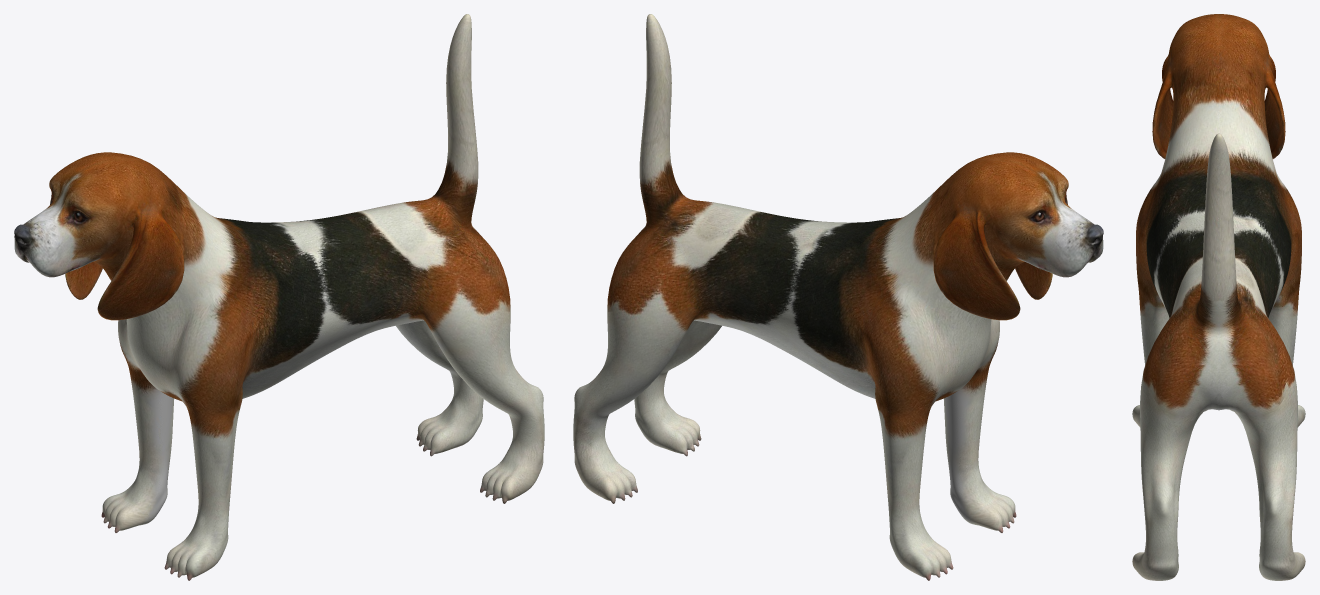
File: Perro.obj
3 views of the same model, side by side, from view 1: azimuth 30°, elevation 25°; view 2: azimuth 150°, elevation 25°; view 3: azimuth 270°, elevation 25° (orthographic). The views are drawn at different scales.
Bounding box in the file's own units: 7.56 × 6.63 × 2.37.
